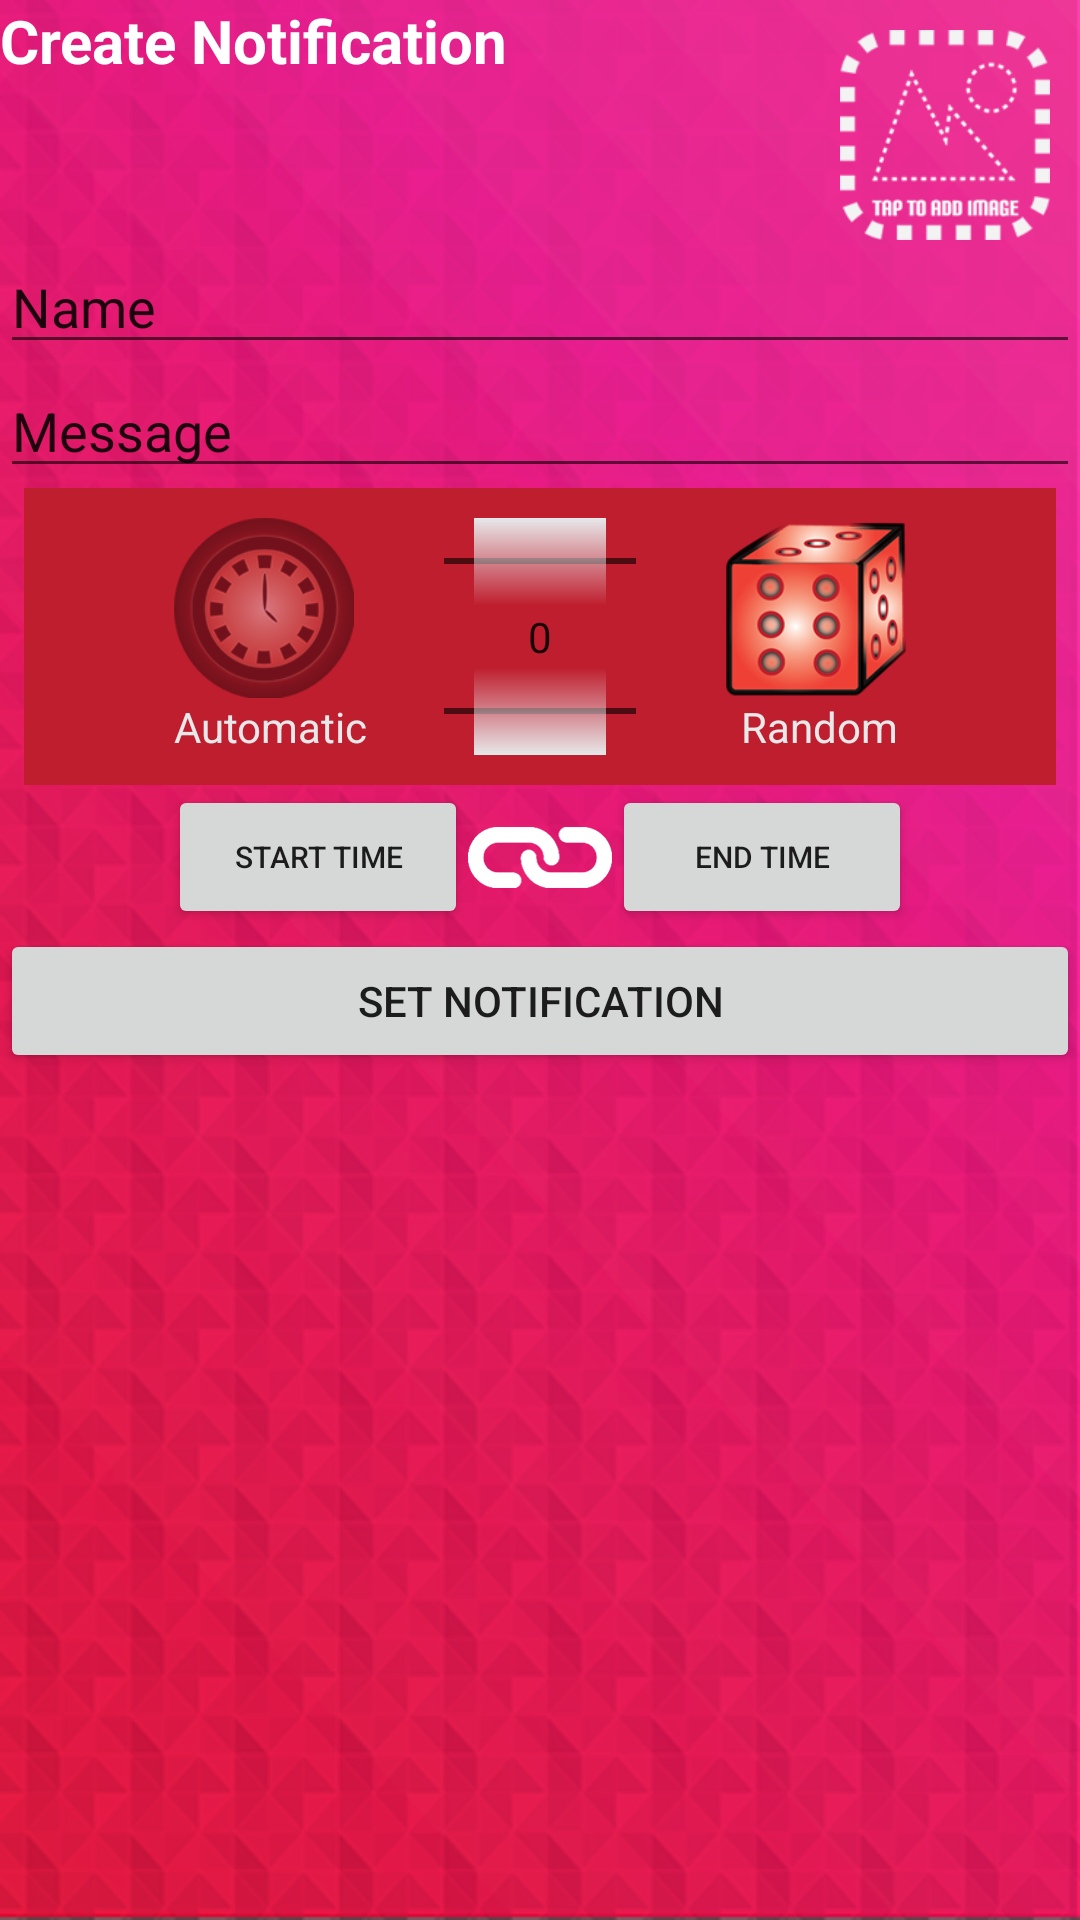

Where to tap for icons on this 1080x1920 app screen, as [x,y]:
clock: [264,608]
die: [816,609]
link: [540,857]
